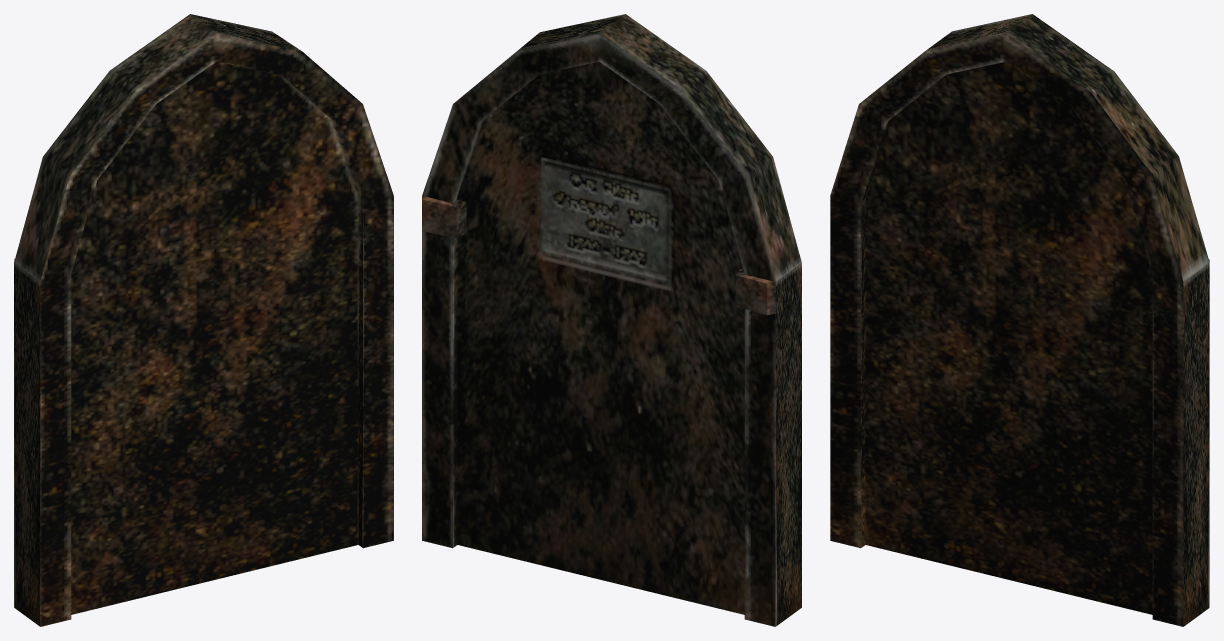
File: cem_tomb3c.glb
3 views of the same model, side by side, from view 1: azimuth 30°, elevation 25°; view 2: azimuth 150°, elevation 25°; view 3: azimuth 330°, elevation 25° (orthographic).
Visible parts, largest first — view 1: cem_tomb3c; view 2: cem_tomb3c; view 3: cem_tomb3c.
Boxes of the visible parts, x1=… form: cem_tomb3c: x1=14, y1=14, x2=393, y2=626; cem_tomb3c: x1=422, y1=14, x2=801, y2=626; cem_tomb3c: x1=830, y1=14, x2=1209, y2=626.
Bounding box in the file's own units: 1.31 × 1.95 × 0.1938.
2 materials, 2 textured.
